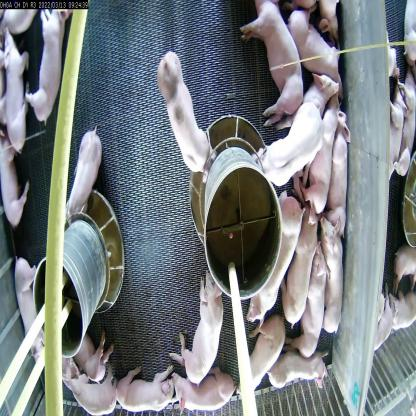Pig: (172, 272, 231, 382), (244, 0, 298, 120), (239, 307, 299, 415), (160, 47, 208, 175), (264, 100, 326, 194), (4, 252, 56, 363), (262, 180, 301, 319), (22, 5, 67, 125), (59, 129, 105, 233), (111, 352, 186, 415), (0, 26, 35, 149), (308, 96, 345, 211), (290, 11, 340, 86), (169, 362, 236, 412), (264, 342, 320, 400), (286, 200, 313, 318), (328, 114, 355, 229), (0, 122, 28, 231), (62, 366, 122, 416), (302, 239, 326, 353), (321, 212, 347, 316), (70, 332, 117, 364)
